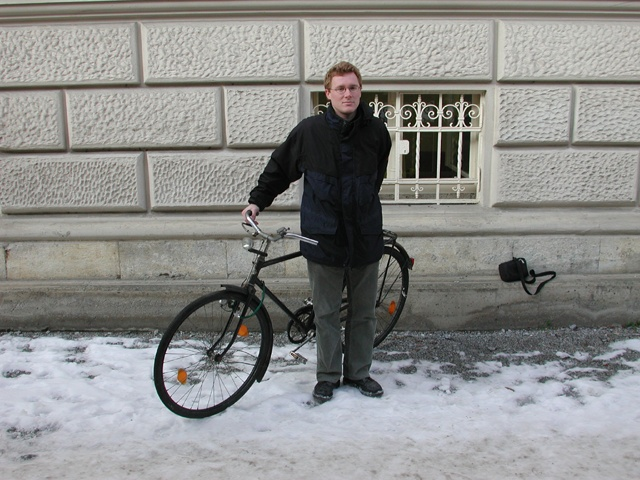person: (292, 56, 392, 404)
